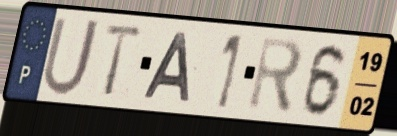1: (216, 33, 245, 111)
6: (301, 42, 350, 119)
A: (140, 31, 192, 105)
R: (245, 34, 306, 118)
T: (101, 22, 147, 99)
U: (39, 14, 104, 99)
